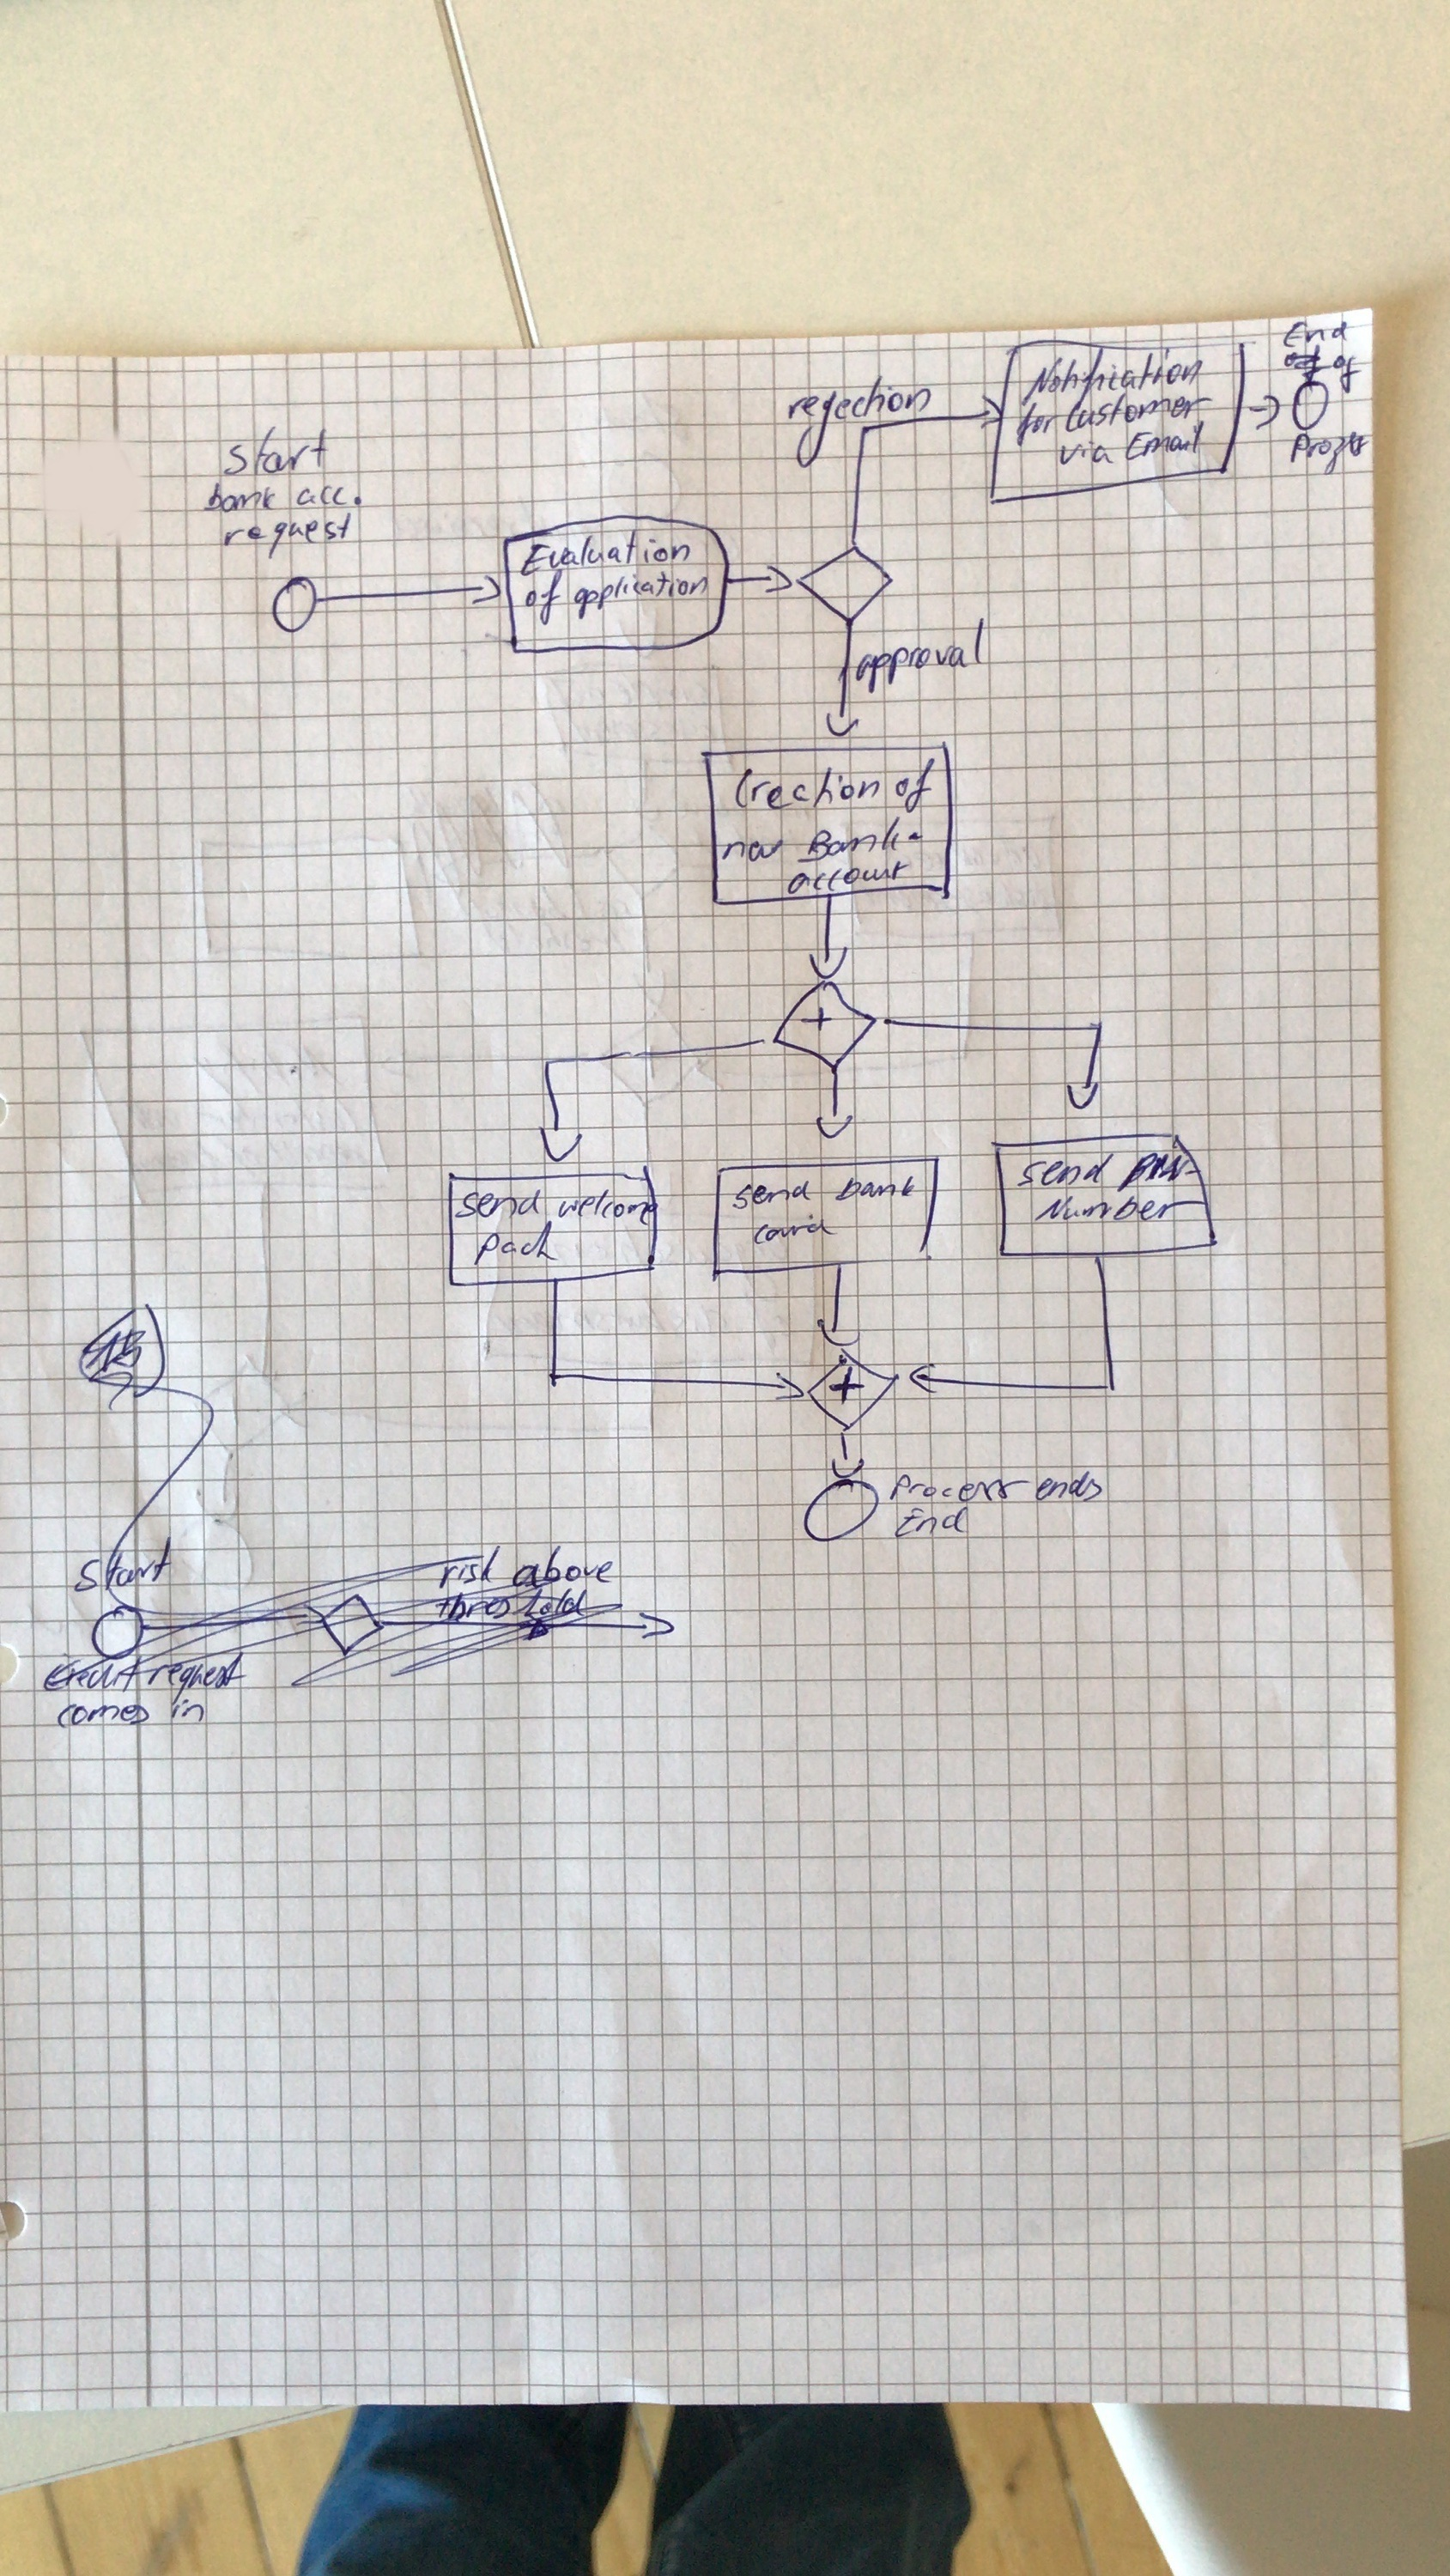Bank: (799, 816, 905, 860)
Creation: (729, 763, 886, 817)
Email: (1125, 419, 1208, 469)
End: (879, 1499, 976, 1548), (1284, 315, 1351, 350)
Evaluation: (522, 529, 693, 575)
Notification: (1020, 349, 1206, 402)
Number: (1033, 1194, 1206, 1230)
PiN-: (1118, 1143, 1204, 1194)
Proccess: (891, 1468, 1027, 1506)
Prozess: (1291, 430, 1369, 476)
acc.: (297, 478, 359, 511)
account: (783, 865, 909, 897)
application: (569, 571, 714, 612)
approval: (847, 619, 992, 690)
bank: (838, 1171, 932, 1205), (205, 479, 286, 517)
card: (748, 1212, 840, 1247)
comes: (57, 1693, 161, 1729)
customer: (1065, 402, 1213, 432)
ends: (1031, 1468, 1103, 1506)
for: (1013, 398, 1054, 449)
in: (168, 1691, 207, 1727)
new: (720, 824, 799, 869)
of: (884, 757, 948, 816), (515, 571, 573, 625), (1324, 345, 1367, 393)
pack: (474, 1219, 561, 1270)
rejection: (783, 379, 934, 472)
request: (221, 513, 352, 556)
risk: (435, 1548, 504, 1585)
send: (1017, 1152, 1125, 1192), (454, 1185, 555, 1224), (734, 1175, 826, 1214)
start: (65, 1541, 191, 1596), (221, 428, 331, 479)
via: (1054, 433, 1116, 471)
welcome: (553, 1187, 656, 1230)
